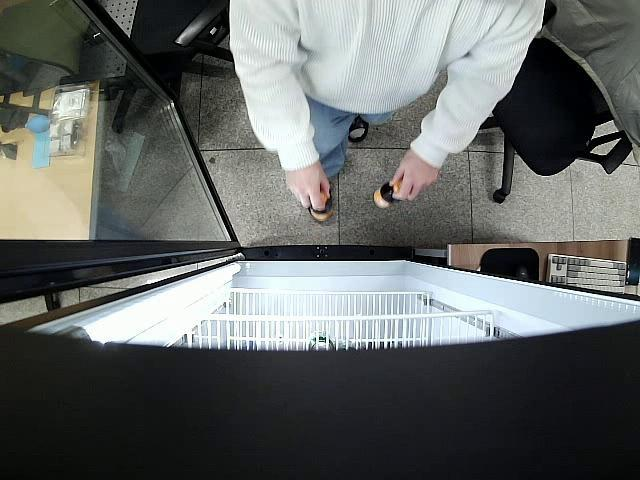17_vita500: (370, 176, 406, 209), (308, 189, 335, 224)
